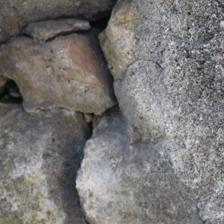Crack: (58, 119, 108, 223), (89, 29, 126, 111)
